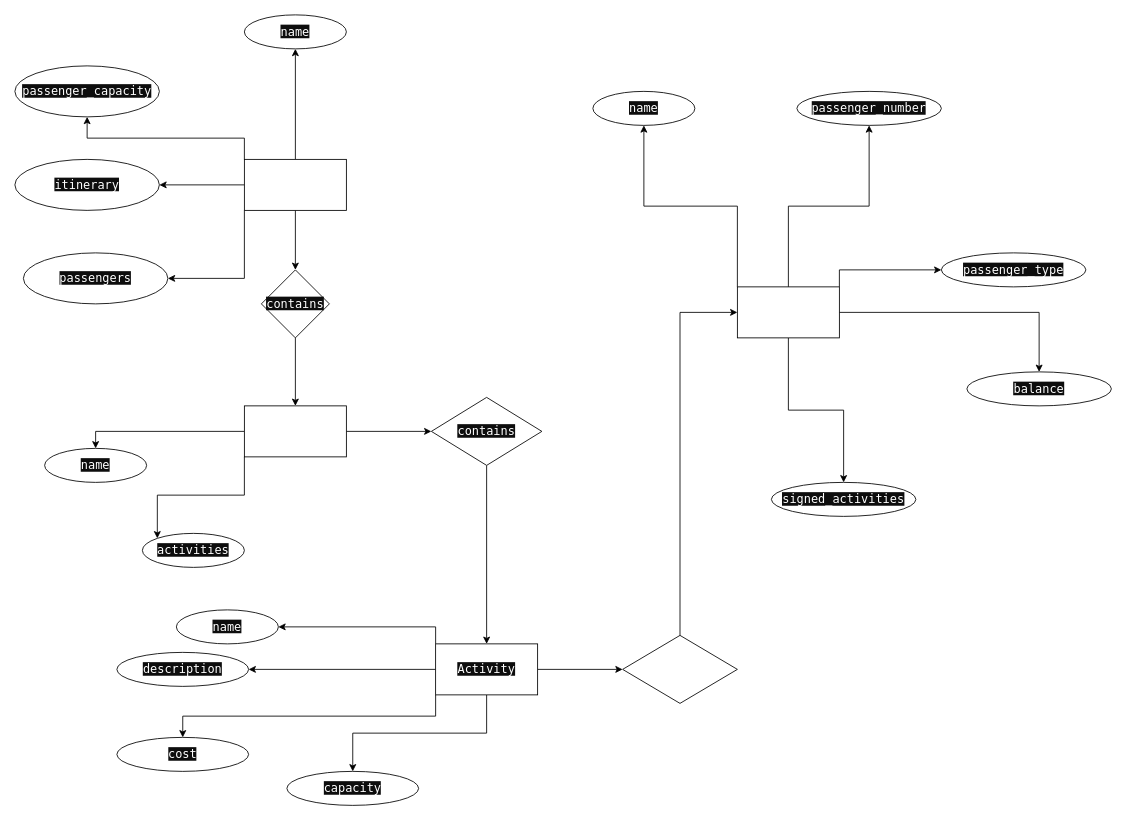
Some shapes in this 1126 by 820 pixel diagram are drawn without their labels. Each missing label, with the centre of its shape:
"Destination" goes at point (295, 431).
"is signed up" goes at point (679, 669).
"Passenger" goes at point (788, 312).
"Travel Package" goes at point (295, 184).
